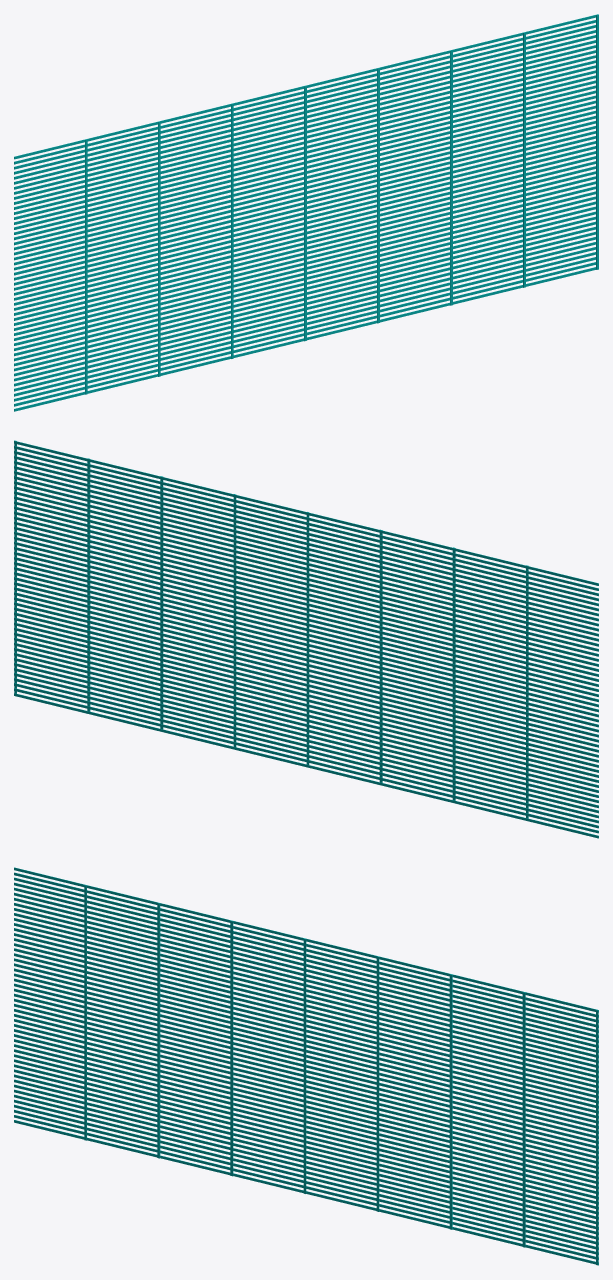
The model's file is leftoffice-ornament.obj.
3 views of the same model, one above another, from view 1: azimuth 30°, elevation 25°; view 2: azimuth 150°, elevation 25°; view 3: azimuth 330°, elevation 25° (orthographic).
Visible parts, largest first — view 1: ??(??)2; view 2: ??(??)2; view 3: ??(??)2.
Boxes of the visible parts, left/top/right/bottom form: ??(??)2: left=14, top=14, right=598, bottom=411; ??(??)2: left=14, top=440, right=598, bottom=838; ??(??)2: left=14, top=867, right=598, bottom=1265.
Size of the model in its own units: 9.45 by 3.94 by 0.0197.
